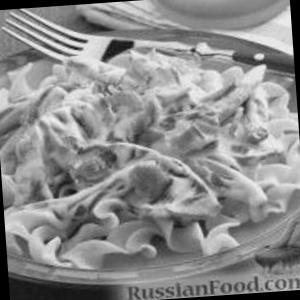pasta: (1, 24, 289, 294)
